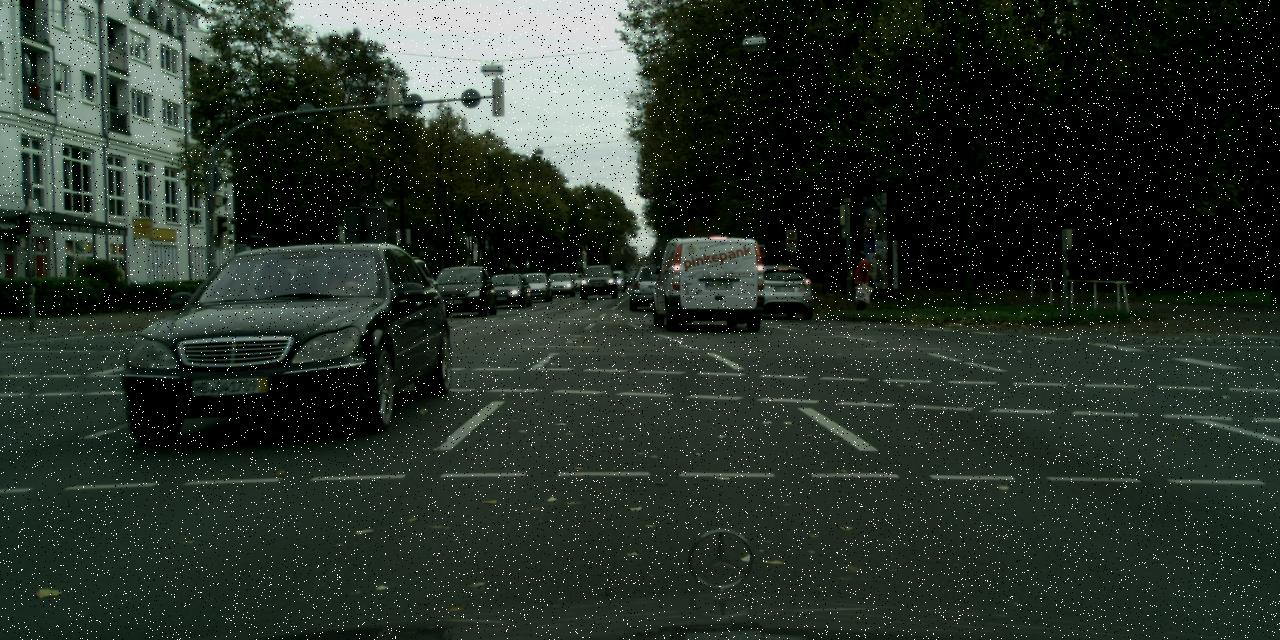ped: (848, 250, 872, 310)
